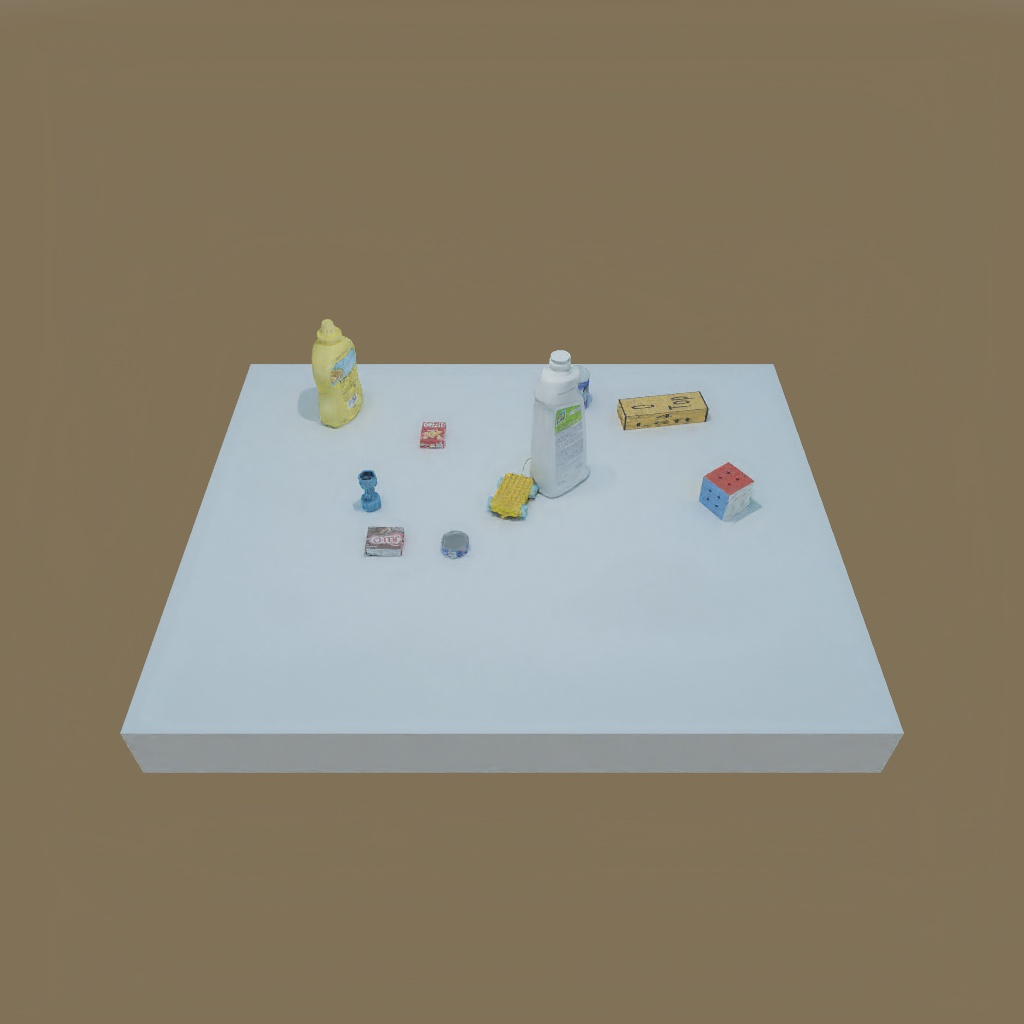jenga: (616, 387, 711, 431)
master_chef_can: (576, 371, 597, 411)
mustard_bottle: (308, 319, 372, 429)
pudding_box: (360, 518, 407, 558)
rubiks_cube: (693, 462, 761, 519)
